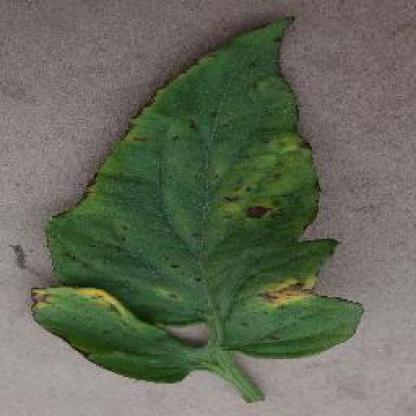bad leaf: (19, 5, 363, 398)
